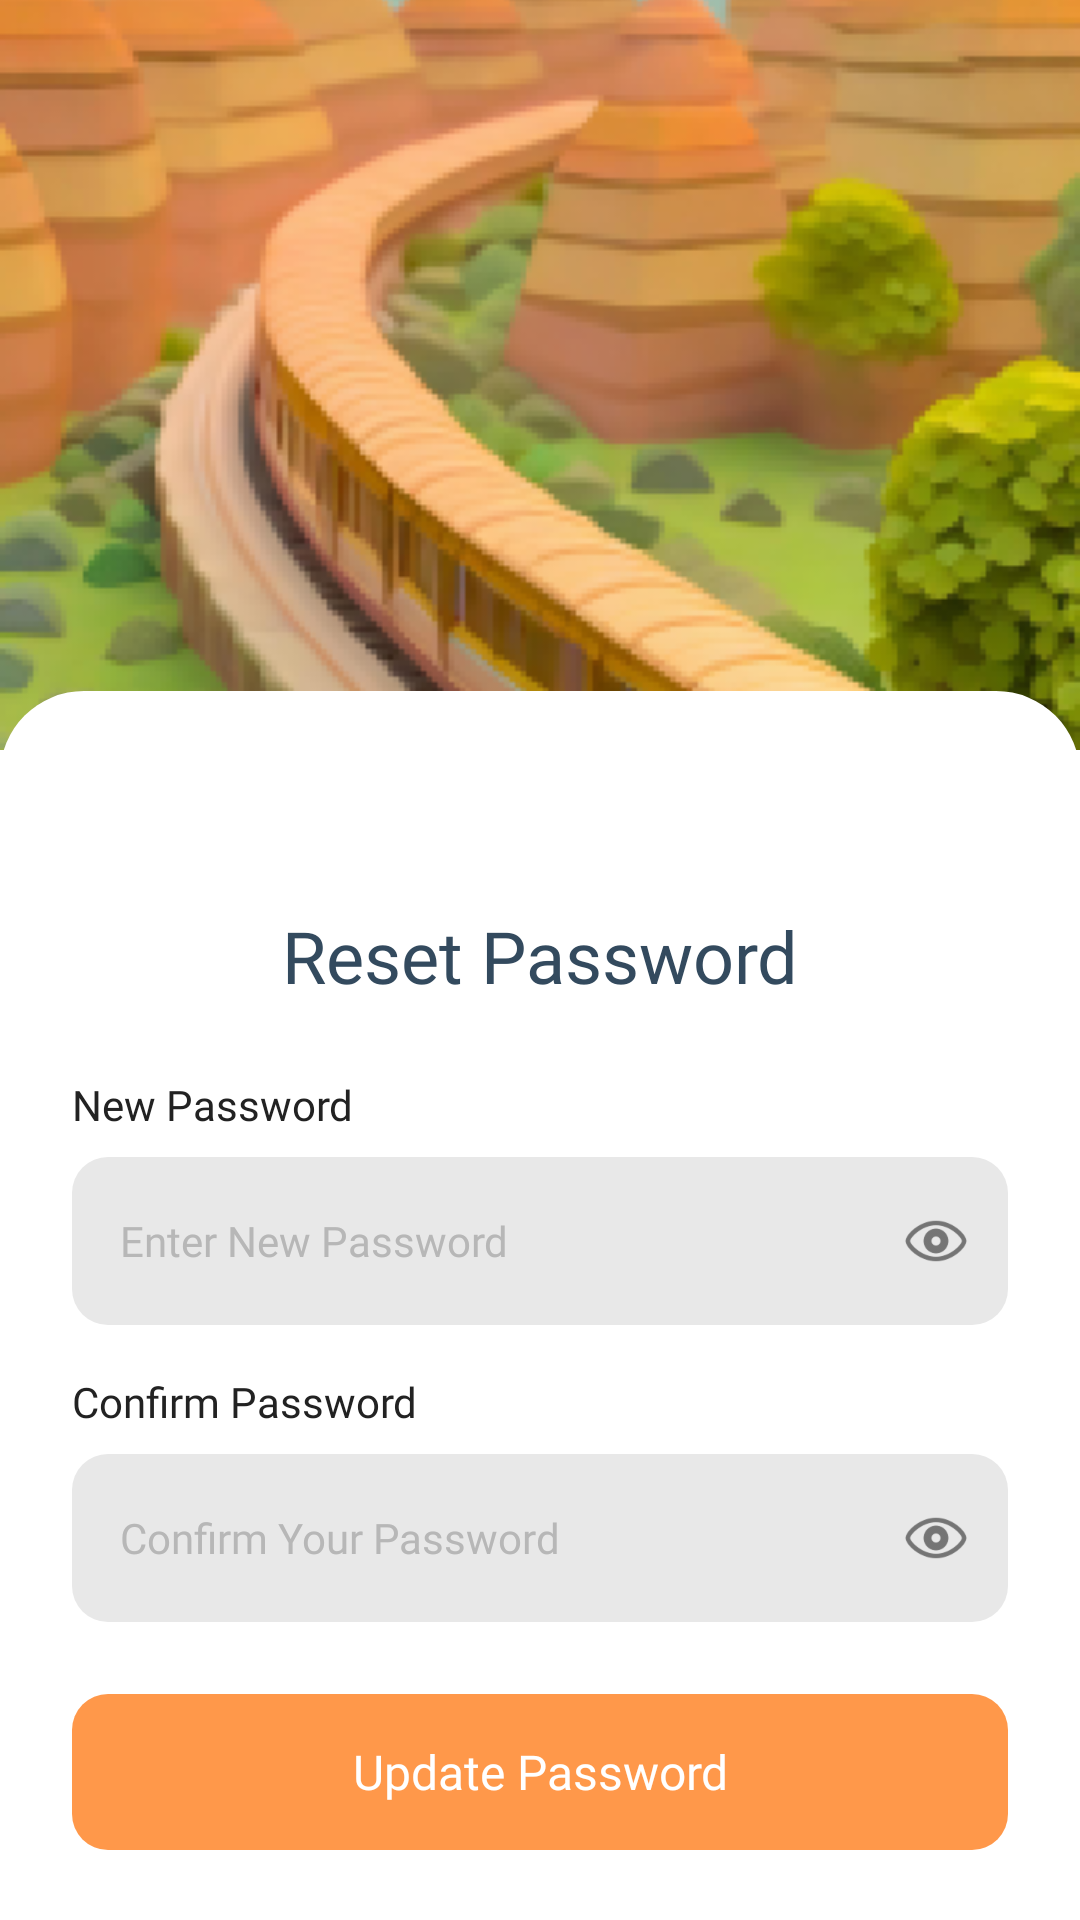

Icon click points for this 1080 x 1920 phone screenshot, format (x=x, y=y):
eye: (x=936, y=1241), (x=936, y=1538)
